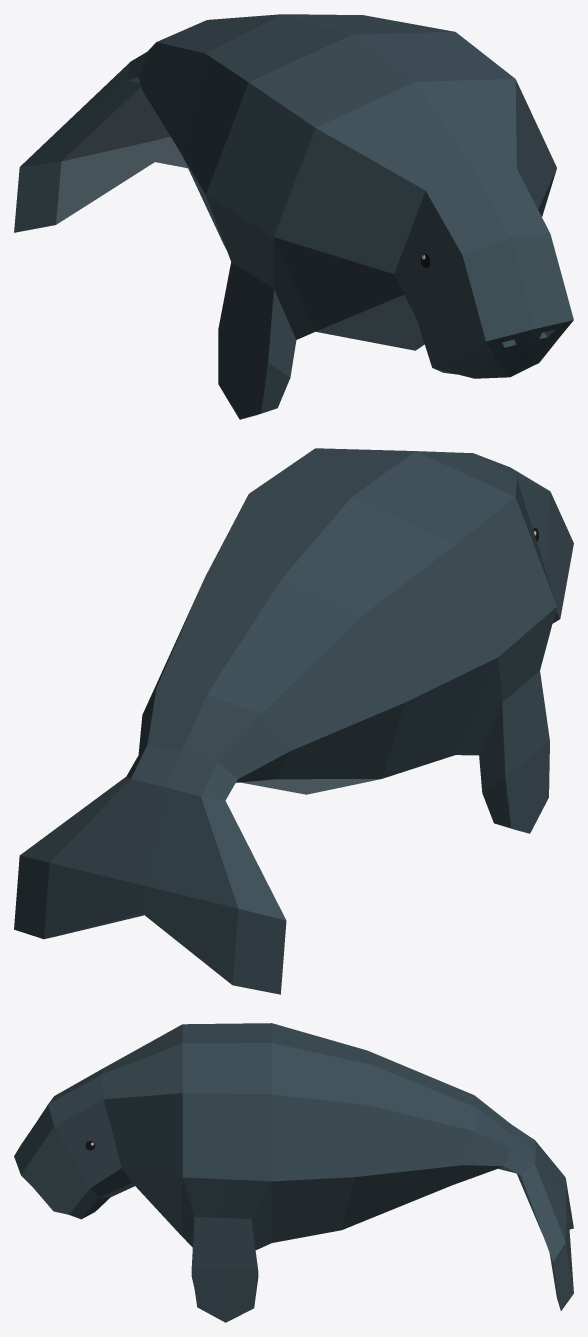
File: Manatee_01.fbx
3 views of the same model, one above another, from view 1: azimuth 30°, elevation 25°; view 2: azimuth 150°, elevation 25°; view 3: azimuth 270°, elevation 25° (orthographic). The views are drawn at different scales.
Visible parts, largest first — view 1: Manatee_01; view 2: Manatee_01; view 3: Manatee_01.
Part boxes in pixels (left/top/right/bottom): Manatee_01: left=14, top=14, right=573, bottom=419; Manatee_01: left=14, top=448, right=573, bottom=994; Manatee_01: left=14, top=1023, right=573, bottom=1322.
Bounding box in the file's own units: 7.24 × 7.69 × 16.98.
